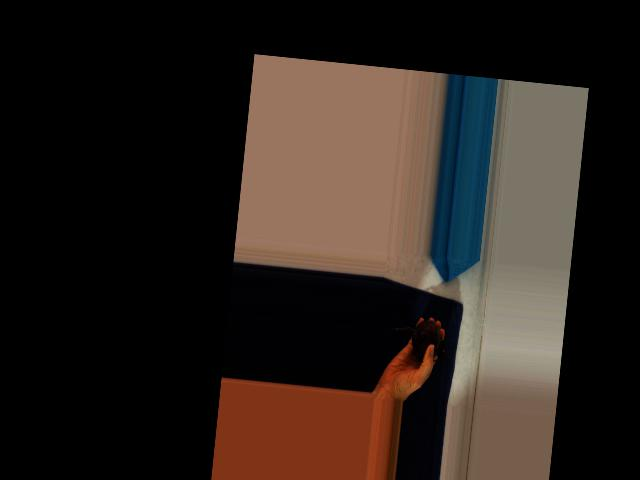beet: (386, 316, 447, 362)
